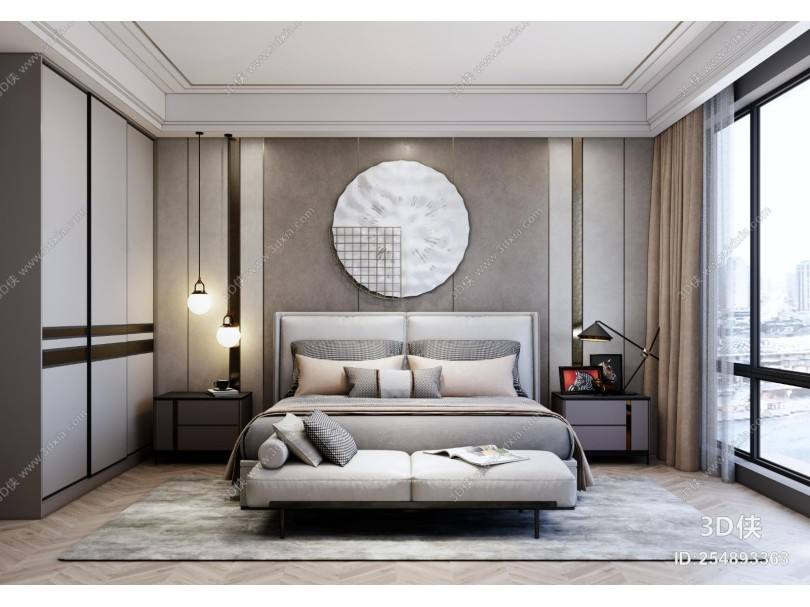床: (237, 390, 569, 541)
枕头: (286, 348, 510, 404)
灯: (578, 317, 657, 398), (189, 129, 216, 321), (209, 315, 240, 395)
